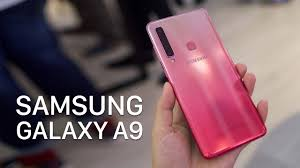samsung: (146, 10, 270, 164)
